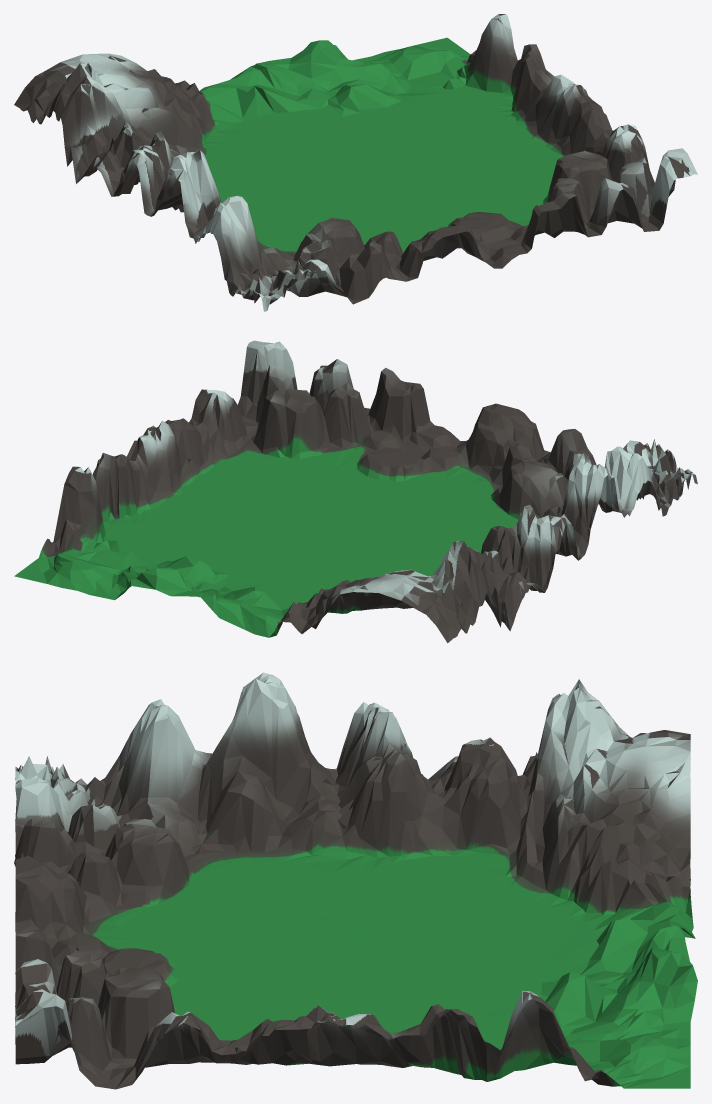
Rendered from Terrain.fbx.
3 views of the same model, one above another, from view 1: azimuth 30°, elevation 25°; view 2: azimuth 150°, elevation 25°; view 3: azimuth 270°, elevation 25° (orthographic). The views are drawn at different scales.
Visible parts, largest first — view 1: Terrain; view 2: Terrain; view 3: Terrain.
Boxes of the visible parts, left/top/right/bottom form: Terrain: left=14, top=14, right=697, bottom=311; Terrain: left=14, top=340, right=697, bottom=643; Terrain: left=14, top=672, right=697, bottom=1089.
Size of the model in its own units: 30082 by 7073 by 30404.
